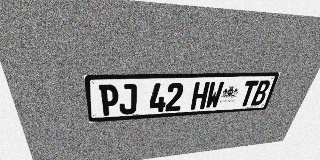2: (165, 82, 184, 112)
4: (149, 83, 168, 113)
B: (250, 80, 271, 106)
H: (190, 82, 210, 110)
J: (119, 84, 137, 115)
P: (99, 84, 119, 116)
T: (238, 80, 259, 107)
W: (204, 81, 225, 109)
